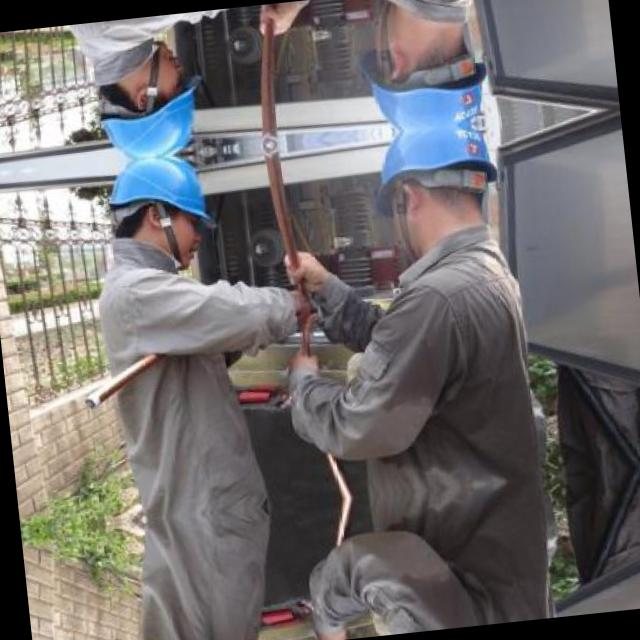helmet: (364, 120, 514, 266), (349, 0, 499, 134), (96, 151, 222, 272), (84, 41, 210, 162)
